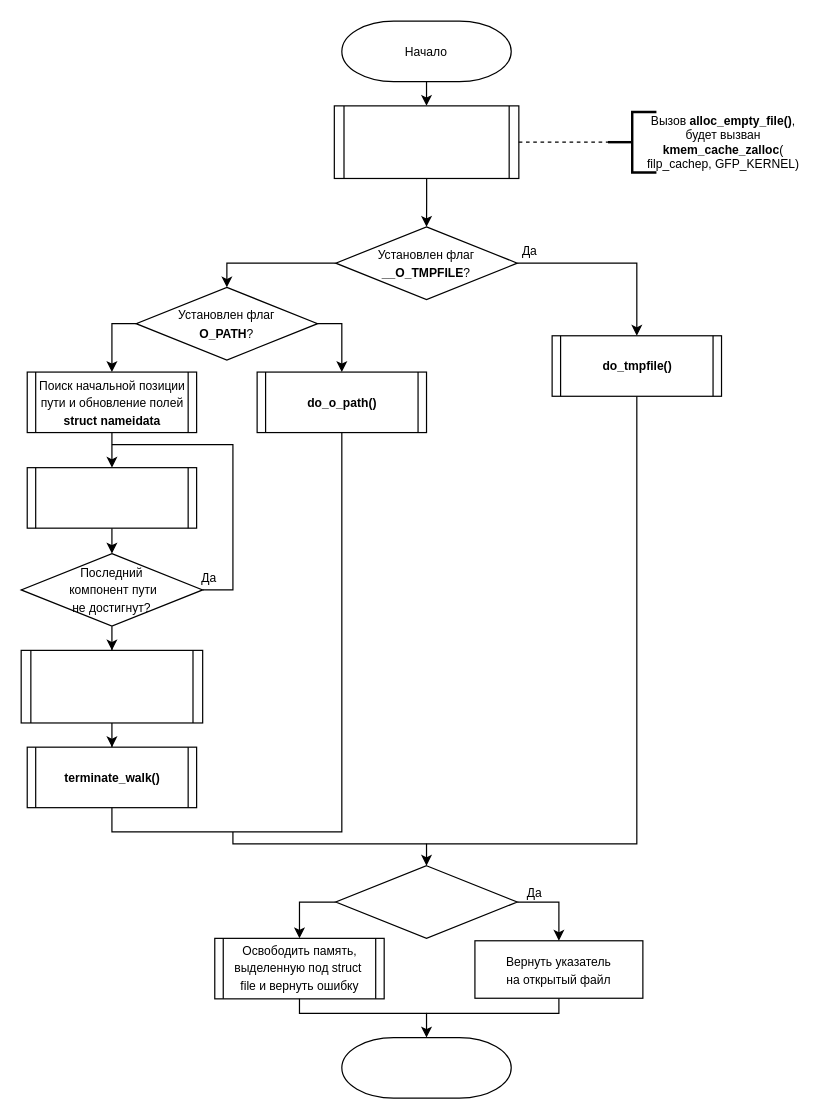
The diagram is 829 pixels wide and 1119 high, and some of its shapes have lost their labels. Here are the shapes that lost their labels. From the top down, the box of each, then its label:
(333, 105, 519, 178): Выделить новую файловую структуру struct file
(26, 466, 197, 528): Проверка прав доступа и получение файлового компонента
(20, 649, 203, 723): vfs_open() do_dentry_open() security_file_open() f->fp_open()
(335, 865, 517, 938): Файл открыт успешно?
(341, 1036, 511, 1098): Конец
